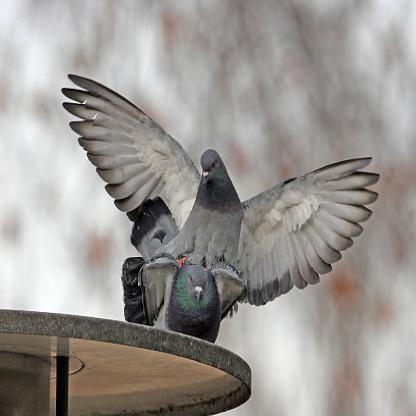Flying Rat: (70, 83, 388, 277), (134, 262, 253, 342)
